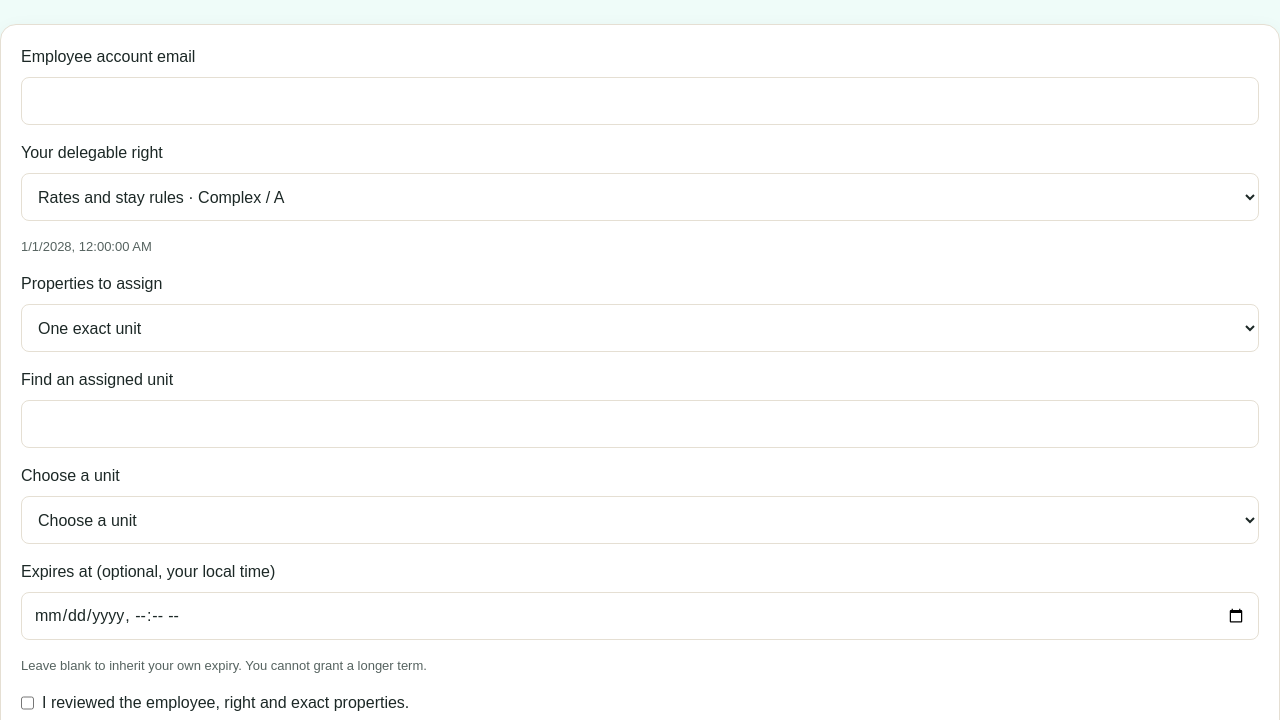
Scenario: scoped manager assignment UI › clears confirmation whenever recipient or scope changes
The width and height of the screenshot is (1280, 720).
In the field labelled "Employee account email": [640, 101] box [21,77,1259,125], type "employee@example.test"
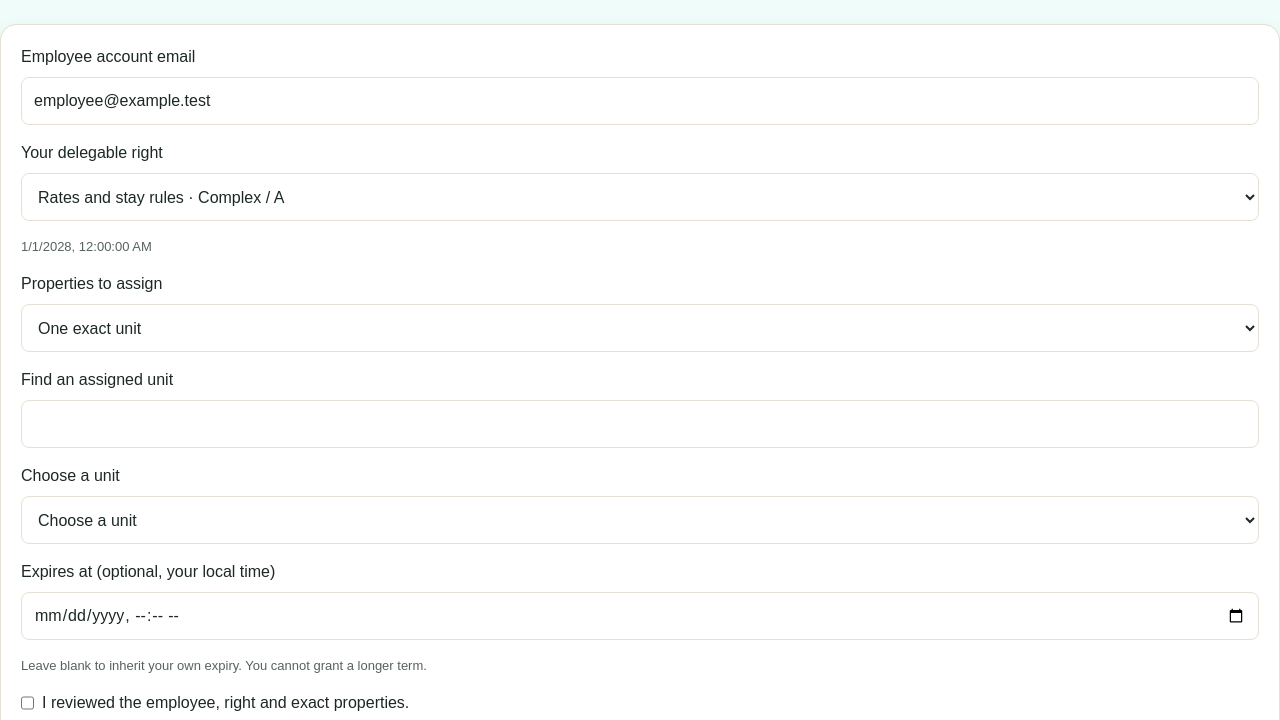
Select "A" in the dropdown labelled "Choose a unit": [640, 520] box [21,496,1259,544]
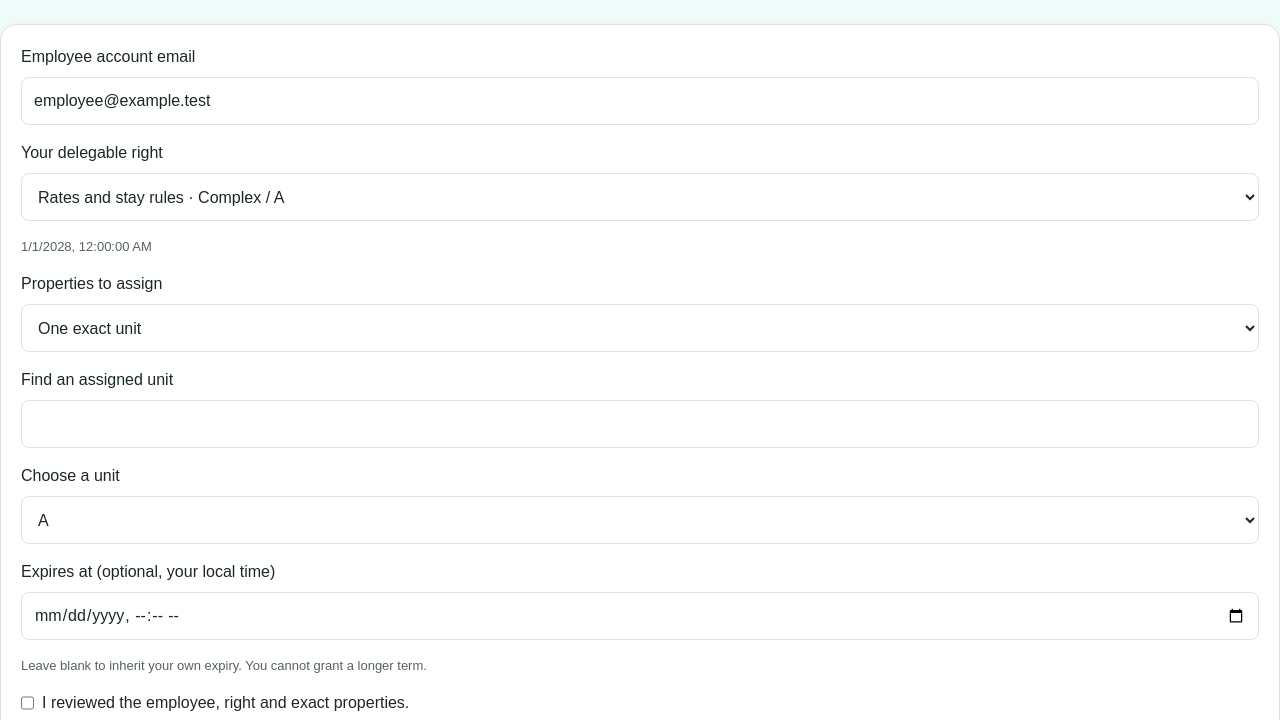
Click the checkbox labelled "I reviewed the employee, right and exact properties.": [28, 703] box [21,691,34,715]
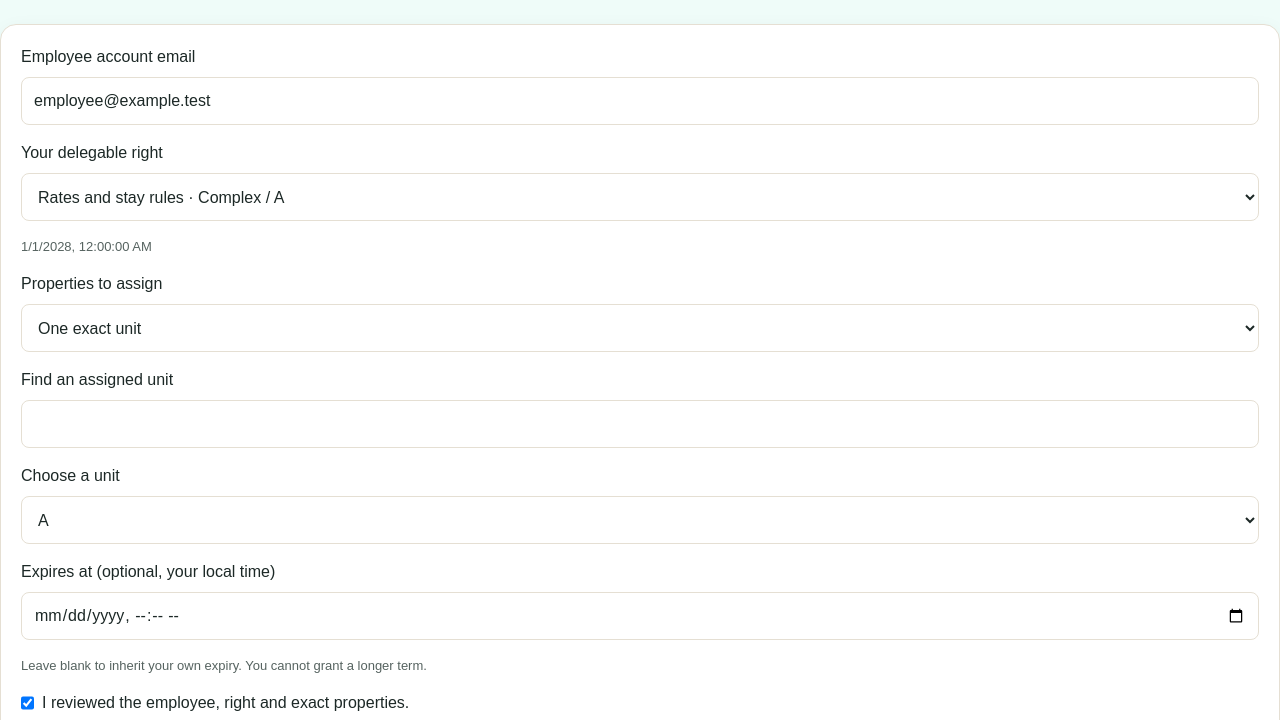
Select "All units in this project" in the dropdown labelled "Properties to assign": [640, 328] box [21,304,1259,352]
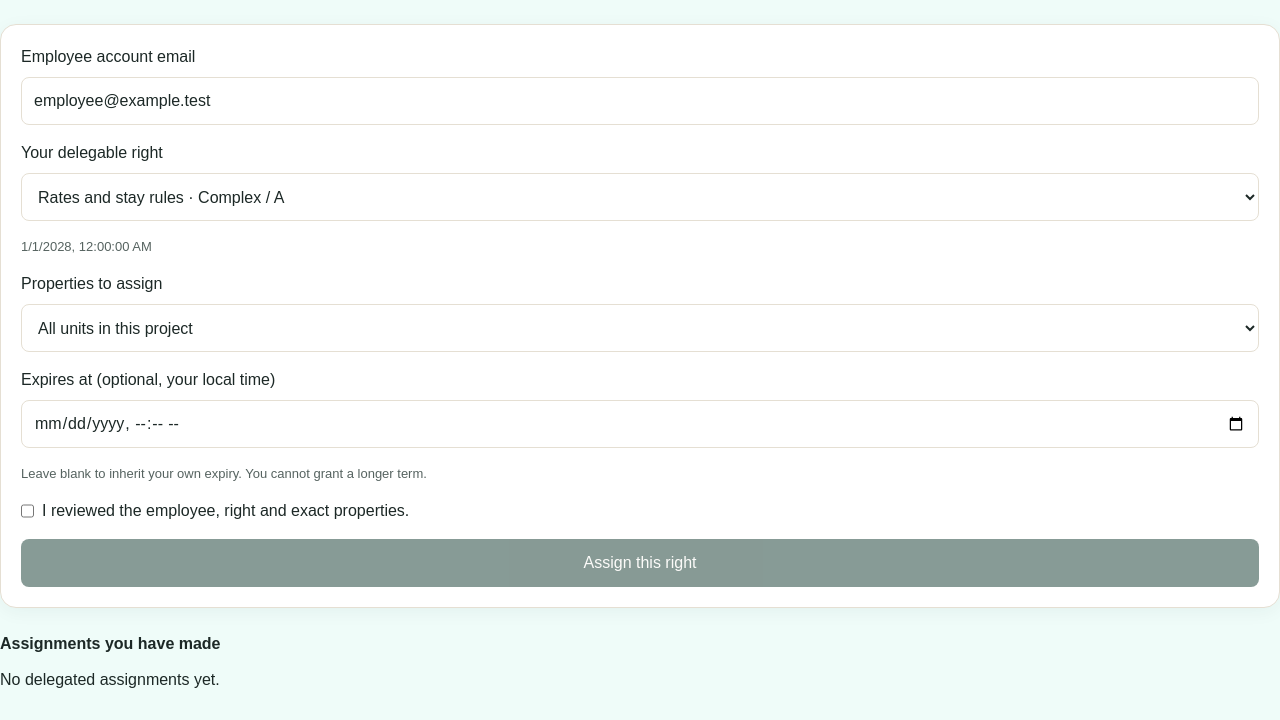
expect the checkbox labelled "I reviewed the employee, right and exact properties." is not checked: met
expect the label labelled "Choose a unit" is gone: met
Click the checkbox labelled "I reviewed the employee, right and exact properties.": [28, 511] box [21,499,34,523]
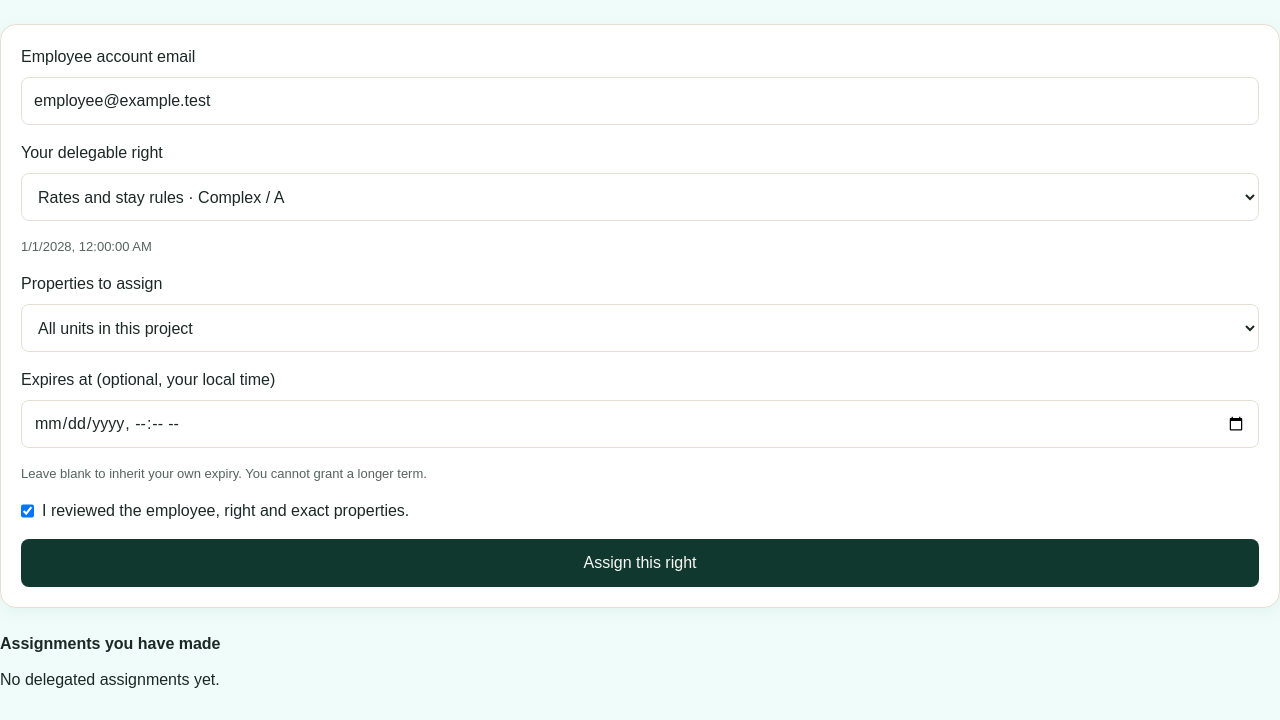
Replace the text in the field labelled "Employee account email" with "other@example.test": [640, 101] box [21,77,1259,125]
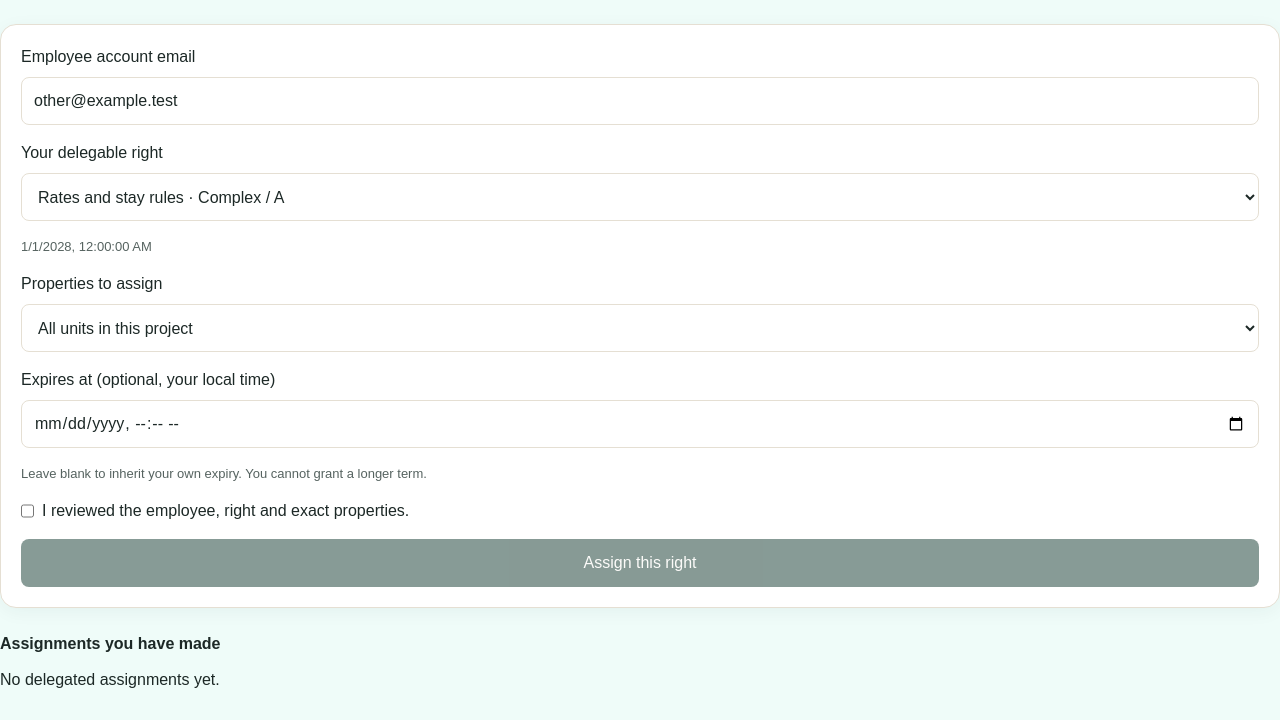
expect the button "Assign this right" is disabled: met, box [21,539,1259,587]
